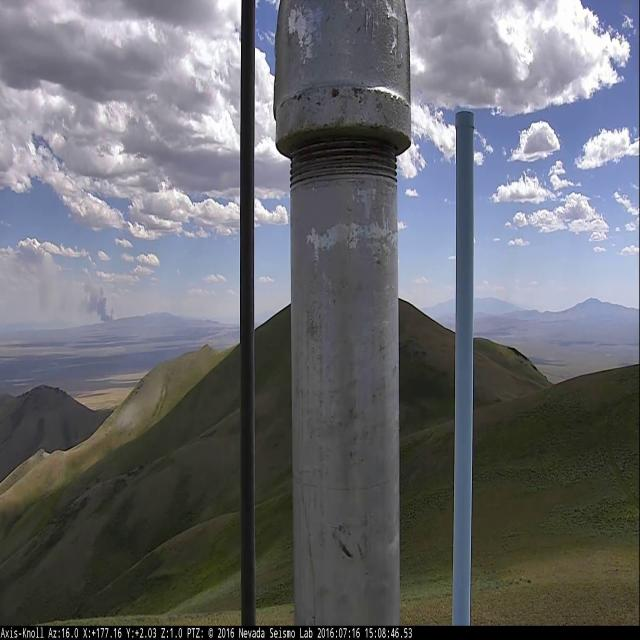smoke: (37, 280, 115, 322)
